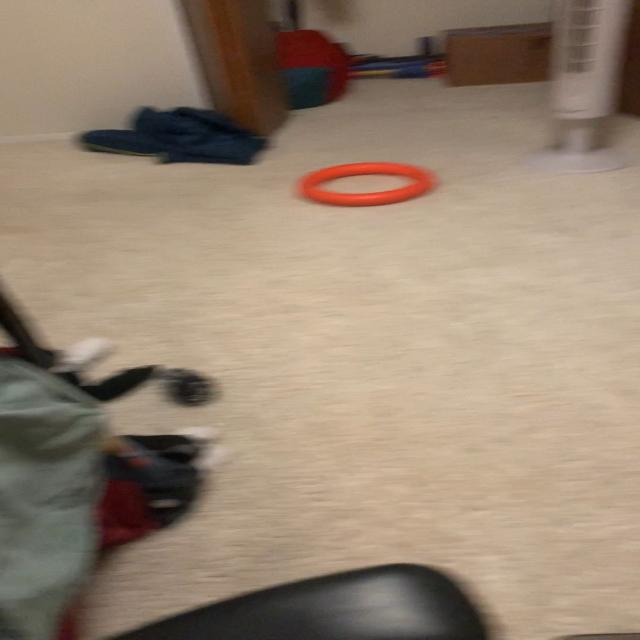notes: (297, 164, 436, 208)
